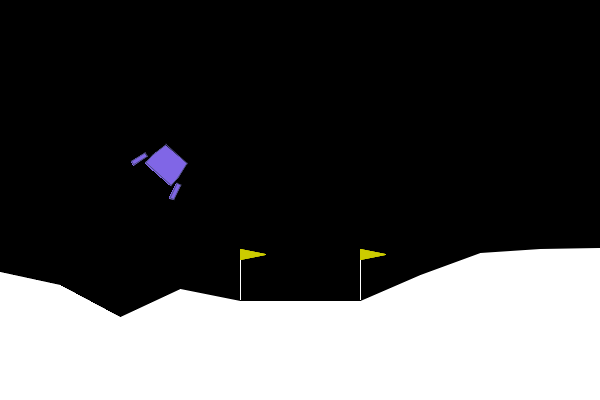lander: (129, 133, 200, 203)
